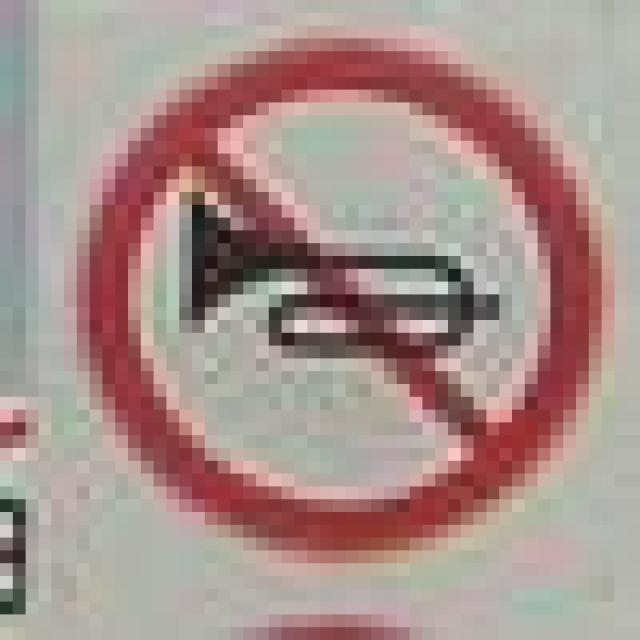horn prohibited: (80, 28, 615, 557)
